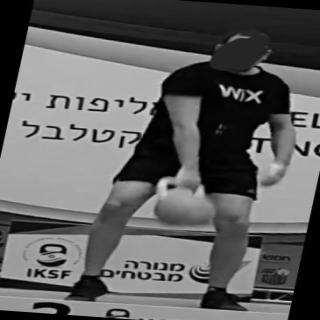kettlebell: (136, 170, 229, 232)
